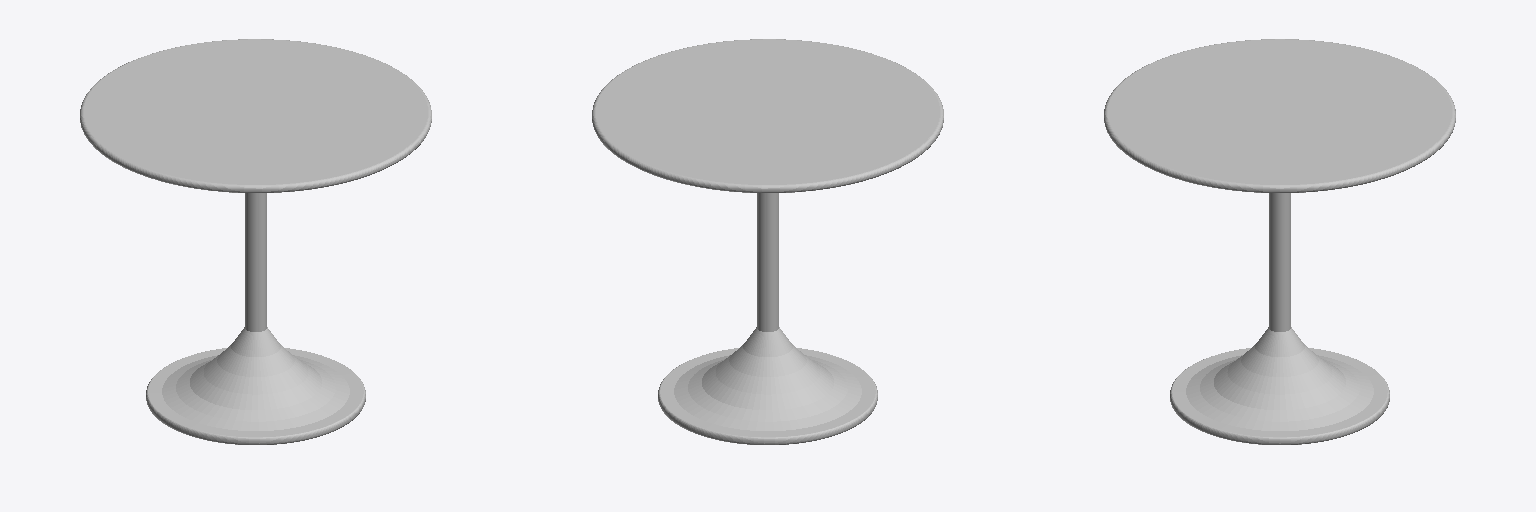
Rendered from SIMPLE ROUND TABLE.obj.
3 views of the same model, side by side, from view 1: azimuth 30°, elevation 25°; view 2: azimuth 150°, elevation 25°; view 3: azimuth 270°, elevation 25° (orthographic).
Parts seen in each view (by area): view 1: masa_Circle.001; view 2: masa_Circle.001; view 3: masa_Circle.001.
Boxes of the visible parts, x1,y1,x2,y2 form: masa_Circle.001: [80, 39, 431, 444]; masa_Circle.001: [592, 39, 943, 444]; masa_Circle.001: [1104, 39, 1455, 444].
Size of the model in its own units: 0.8 by 0.72 by 0.8.